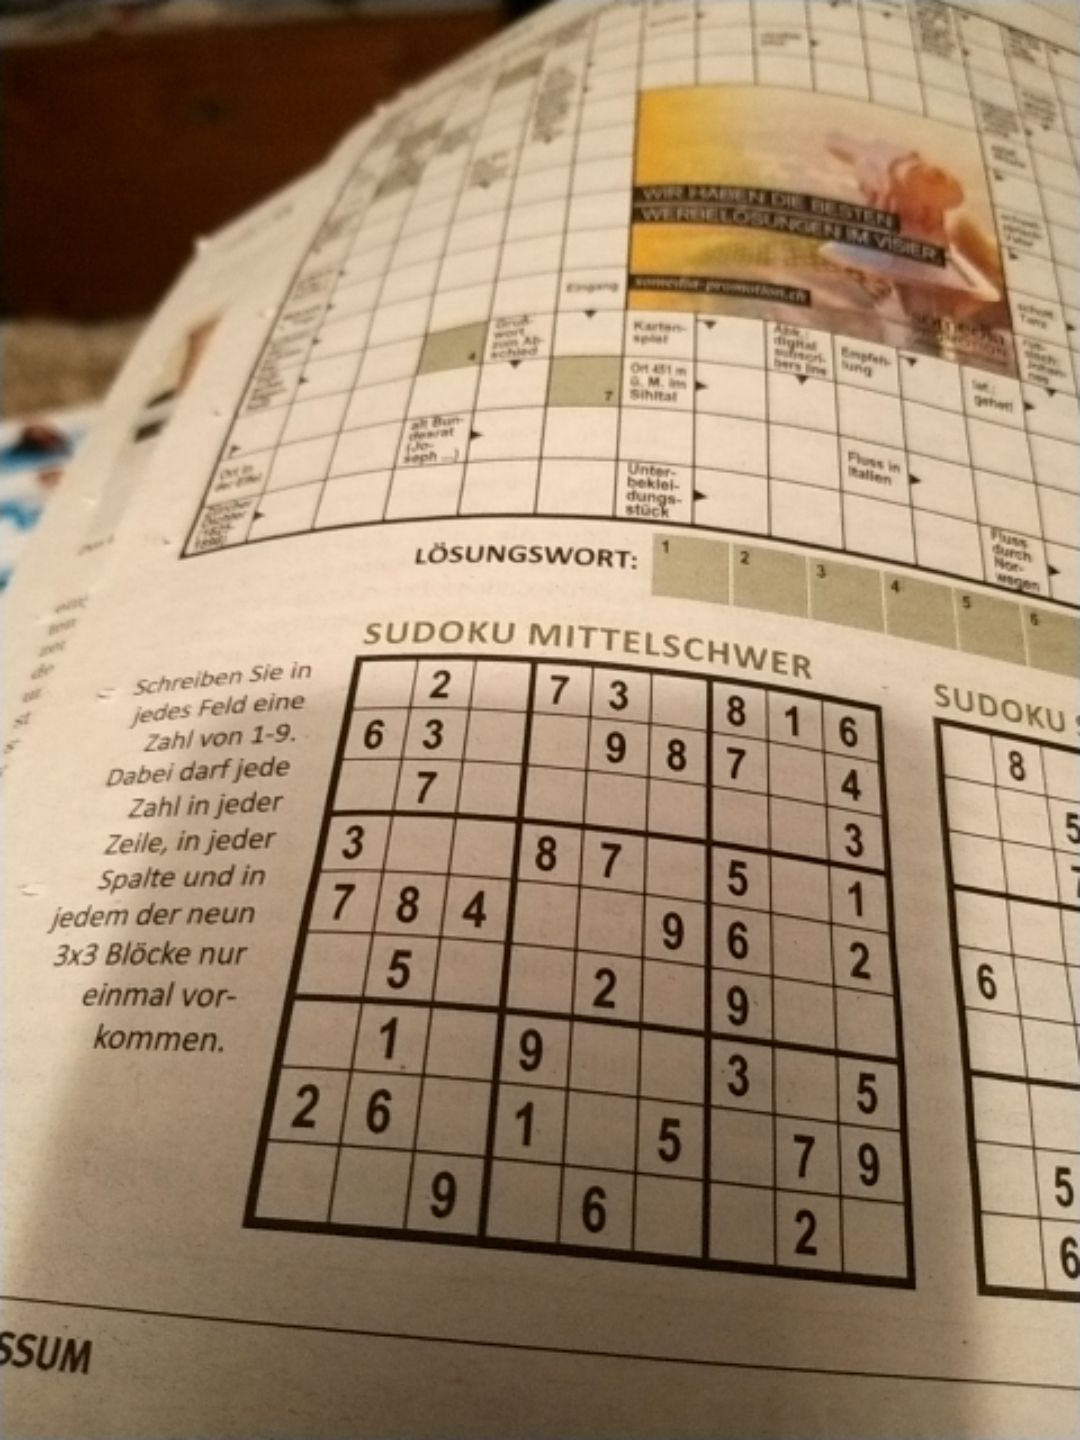sudoku: (246, 651, 910, 1289)
